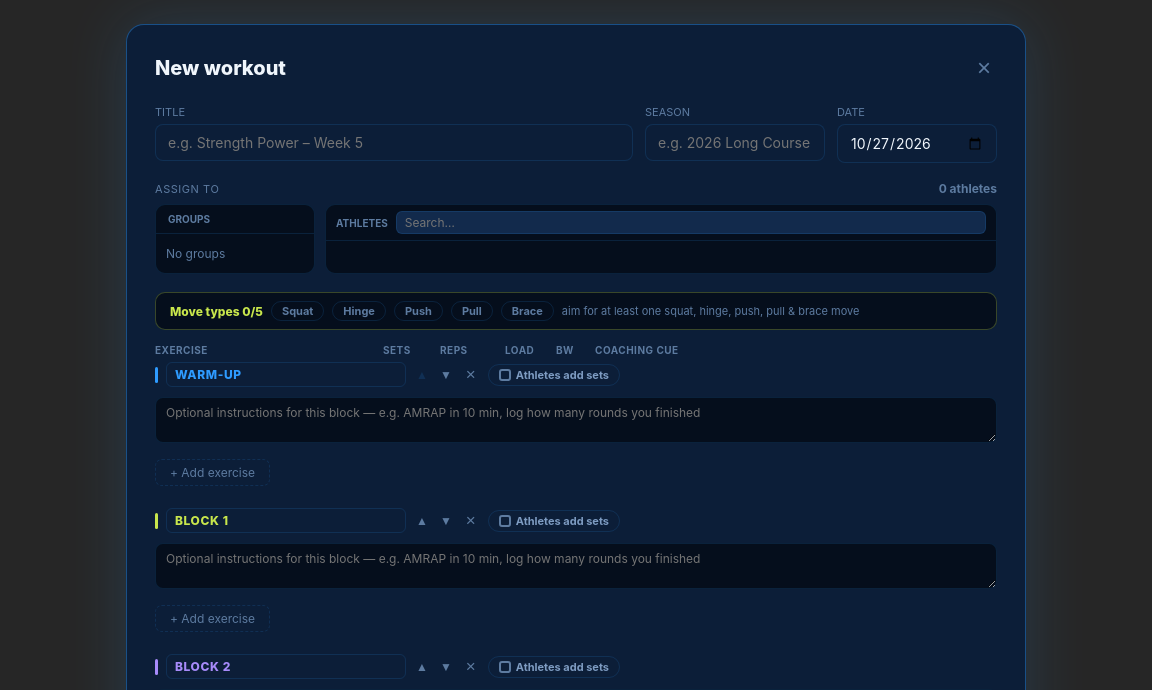
Test: blocks move up and down, and the ends are not movable past the edge
The width and height of the screenshot is (1152, 690).
Click the 1st button titled "Move block down" at [446, 374], box [438,368,454,380]
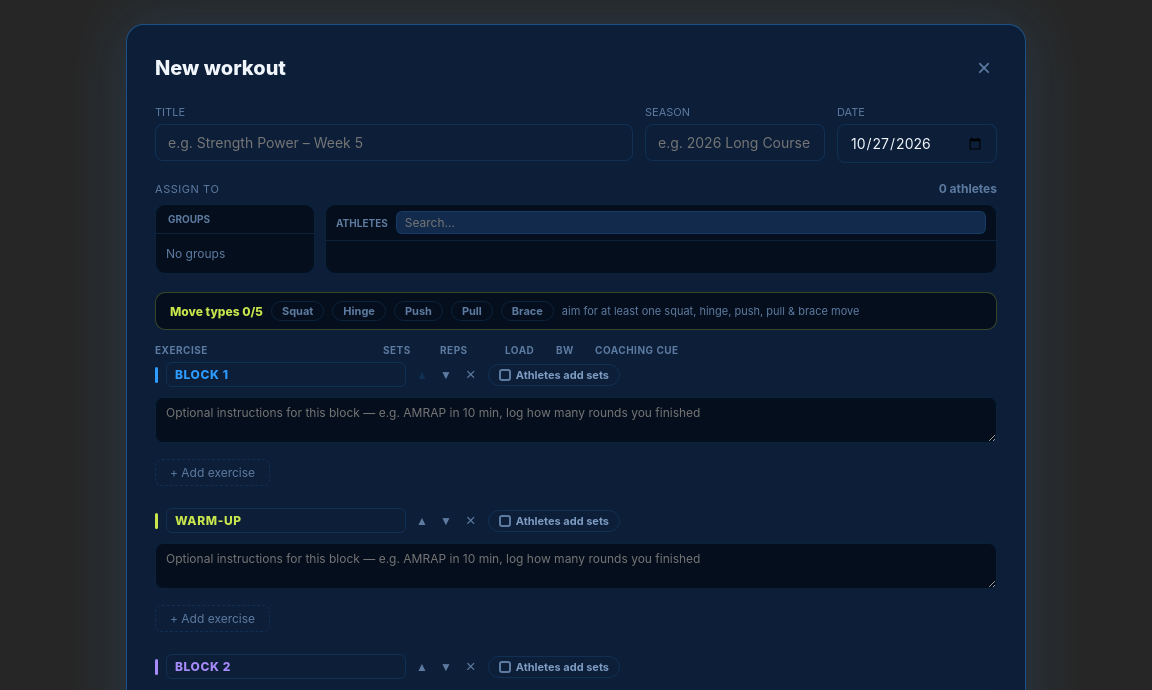
Click the 2nd button titled "Move block up" at [422, 520], box [414,514,430,526]
(page scrolled)
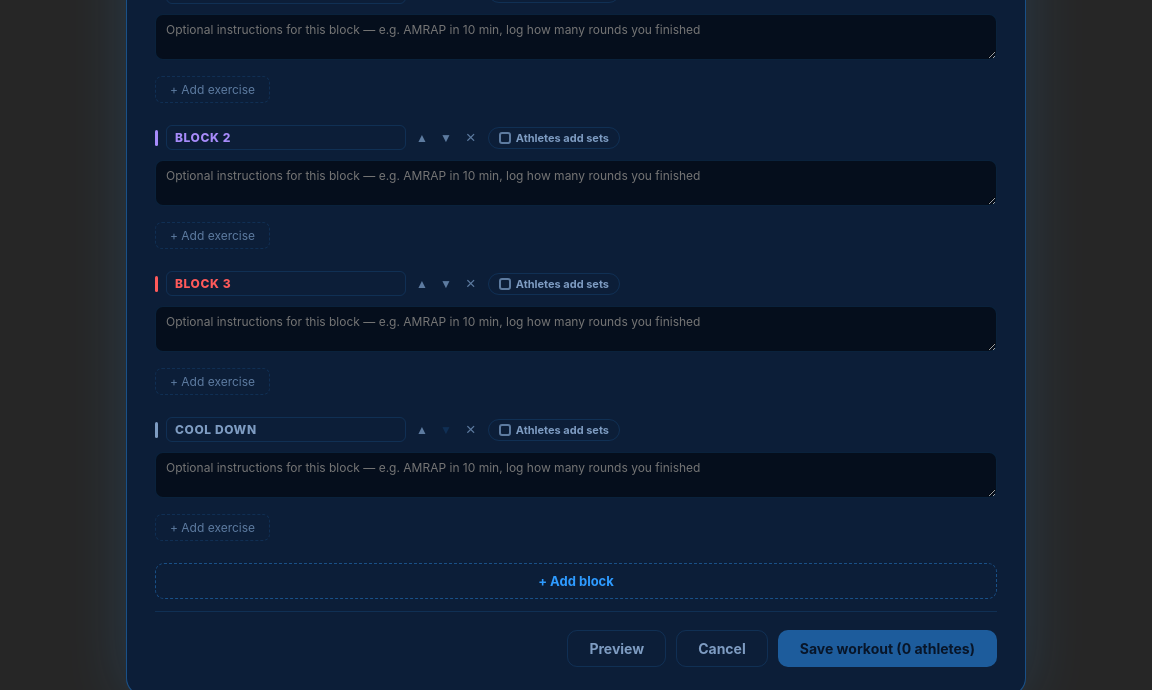
Expected: the 3rd button titled "Move block down" is disabled, [438,424,454,436]
